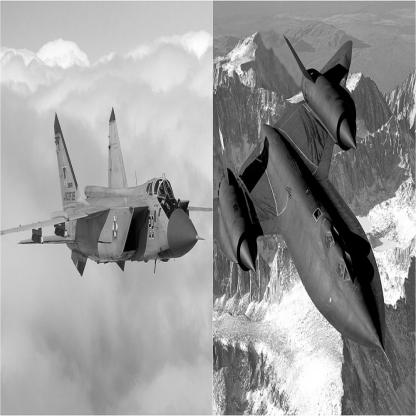Mig31: (2, 108, 214, 278)
SR71: (214, 35, 394, 371)
